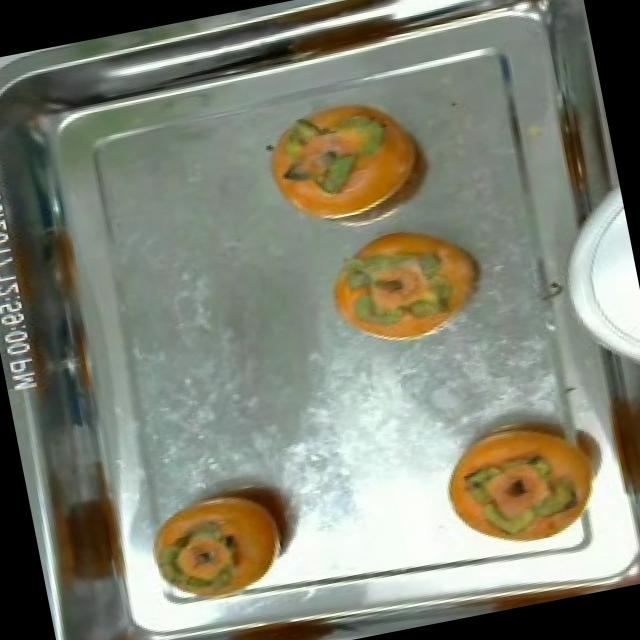Fruit: (421, 388, 638, 564), (250, 82, 447, 239), (314, 208, 502, 361), (130, 462, 316, 610), (30, 472, 156, 604)
